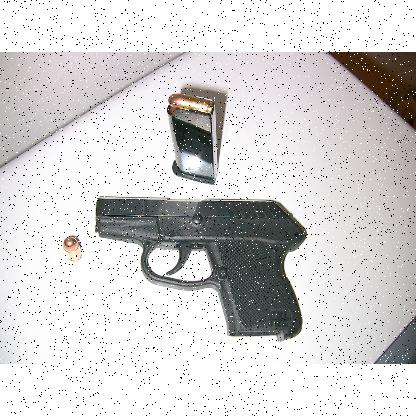gun: (93, 194, 303, 342)
